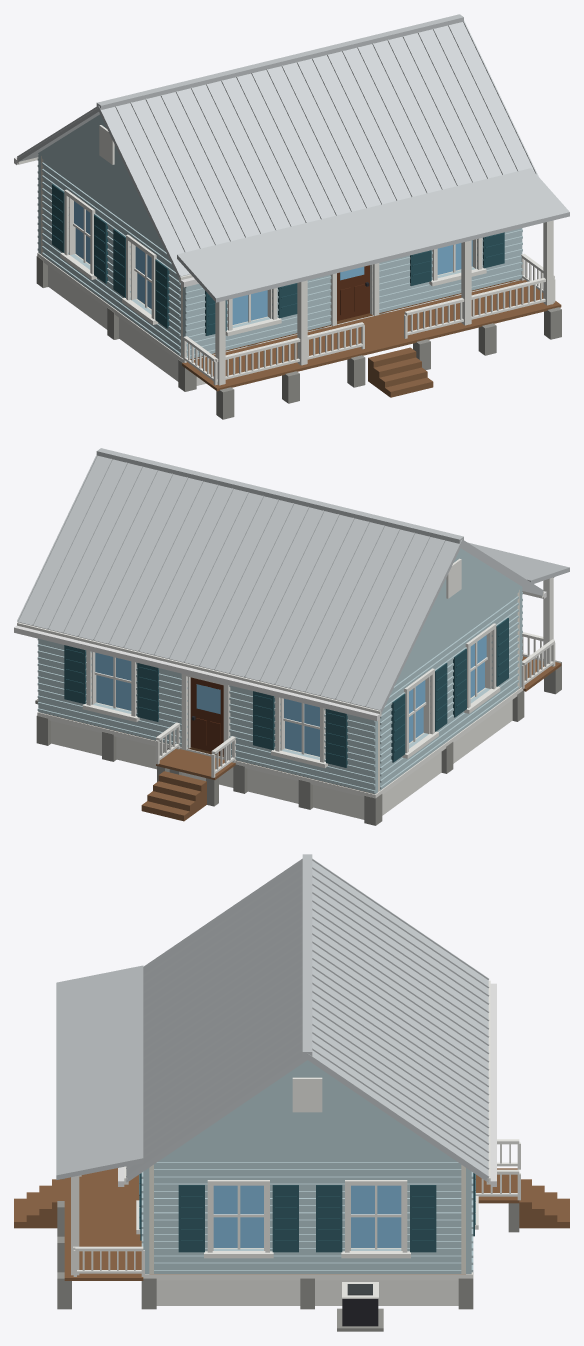
Rendered from KeyWest.glb.
3 renders of one model, top to bottom at view 1: azimuth 30°, elevation 25°; view 2: azimuth 150°, elevation 25°; view 3: azimuth 270°, elevation 25°, orthographic. The views are drawn at different scales.
Parts seen in each view (by area): view 1: KeyWest_MetalRoof, KeyWest_Siding, KeyWest_Trim, KeyWest_Deck, KeyWest_Shutter, KeyWest_Foundation, KeyWest_Lattice, KeyWest_Door1, KeyWest_Sash1, KeyWest_Glass, KeyWest_Sash2; view 2: KeyWest_MetalRoof, KeyWest_Siding, KeyWest_Trim, KeyWest_Shutter, KeyWest_Lattice, KeyWest_Deck, KeyWest_Foundation, KeyWest_Gutter, KeyWest_Glass, KeyWest_Door2, KeyWest_Sash4, KeyWest_Sash3 (+2 smaller); view 3: KeyWest_MetalRoof, KeyWest_Siding, KeyWest_Trim, KeyWest_Deck, KeyWest_Shutter, KeyWest_Lattice, KeyWest_Foundation, KeyWest_Glass, KeyWest_Gutter, KeyWest_Sash7, KeyWest_Sash8, KeyWest_WallsIn (+1 smaller).
Boxes of the visible parts, box(x1,y1,x2,y2) form: KeyWest_MetalRoof: box(17, 14, 569, 302); KeyWest_Siding: box(37, 114, 522, 359); KeyWest_Trim: box(17, 125, 555, 385); KeyWest_Deck: box(182, 280, 561, 397); KeyWest_Shutter: box(52, 184, 504, 335); KeyWest_Foundation: box(36, 255, 561, 419); KeyWest_Lattice: box(48, 263, 515, 385); KeyWest_Door1: box(337, 265, 369, 320); KeyWest_Sash1: box(232, 290, 267, 324); KeyWest_Glass: box(74, 201, 151, 279); KeyWest_Sash2: box(437, 240, 472, 274); KeyWest_MetalRoof: box(17, 448, 569, 714); KeyWest_Siding: box(37, 548, 522, 793); KeyWest_Trim: box(17, 558, 555, 797); KeyWest_Shutter: box(64, 618, 508, 767); KeyWest_Lattice: box(51, 696, 512, 819); KeyWest_Deck: box(141, 656, 561, 821); KeyWest_Foundation: box(35, 660, 561, 825); KeyWest_Gutter: box(14, 591, 546, 721); KeyWest_Glass: box(95, 635, 486, 726); KeyWest_Door2: box(190, 677, 223, 754); KeyWest_Sash4: box(96, 675, 131, 710); KeyWest_Sash3: box(285, 721, 319, 756); KeyWest_MetalRoof: box(56, 854, 489, 1182); KeyWest_Siding: box(141, 1060, 473, 1273); KeyWest_Trim: box(71, 980, 520, 1298); KeyWest_Deck: box(14, 1168, 569, 1280); KeyWest_Shutter: box(139, 1173, 475, 1252); KeyWest_Lattice: box(156, 1280, 458, 1305); KeyWest_Foundation: box(57, 1178, 519, 1331); KeyWest_Glass: box(213, 1185, 401, 1214); KeyWest_Gutter: box(118, 983, 496, 1186); KeyWest_Sash7: box(213, 1217, 263, 1247); KeyWest_Sash8: box(351, 1217, 401, 1247); KeyWest_WallsIn: box(149, 1164, 465, 1273).
Bounding box in the file's own units: 47.96 × 27.56 × 52.65.
